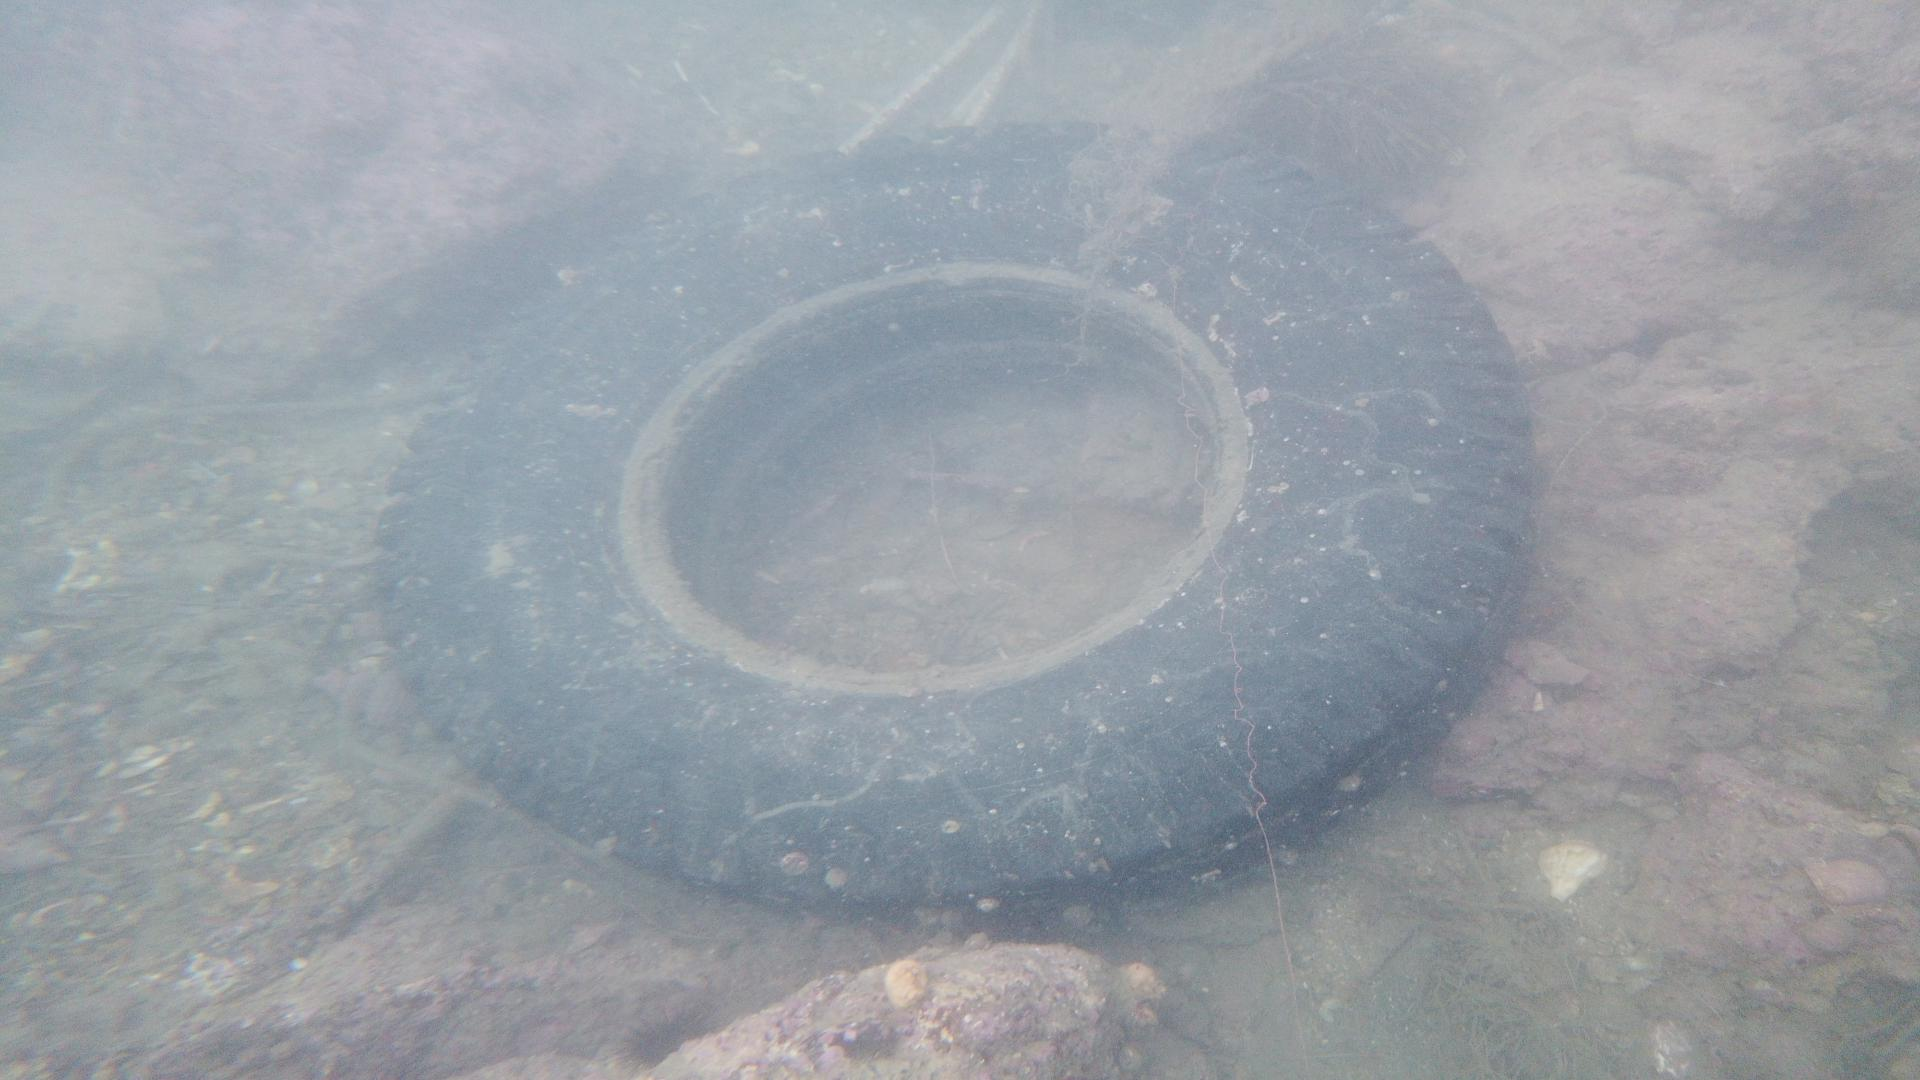tire: (367, 119, 1536, 927)
